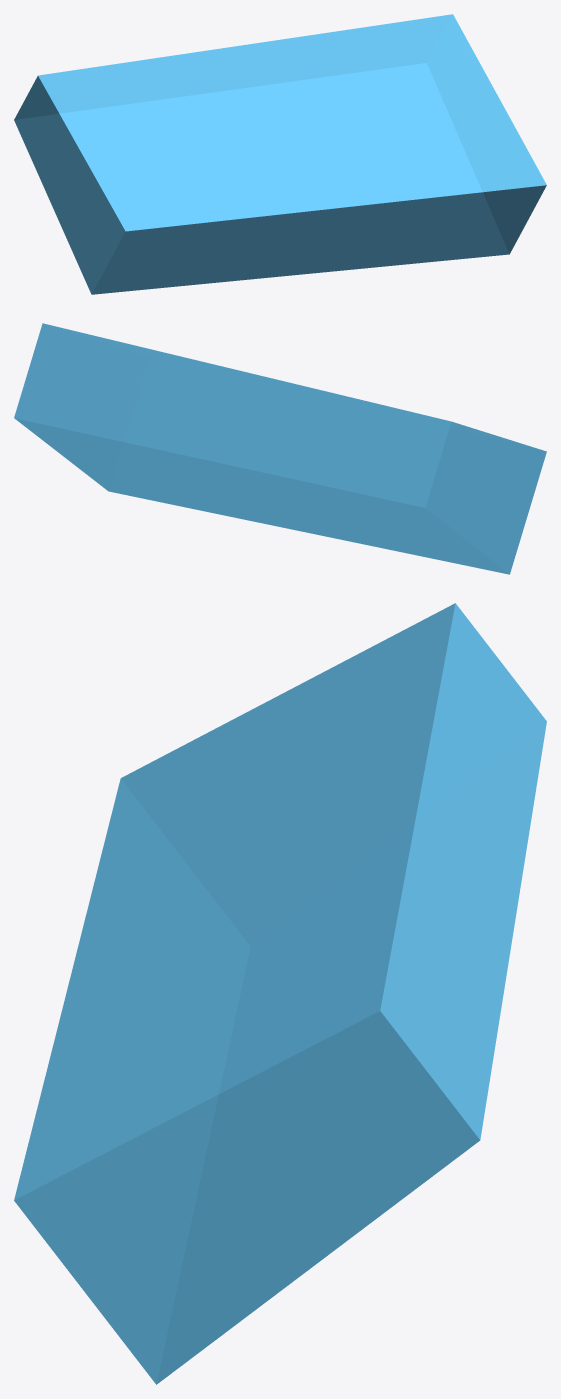
File: Event_420094457_HErechit_97.fbx
3 renders of one model, top to bottom at view 1: azimuth 30°, elevation 25°; view 2: azimuth 150°, elevation 25°; view 3: azimuth 270°, elevation 25°, orthographic. The views are drawn at different scales.
Visible parts, largest first — view 1: Model; view 2: Model; view 3: Model.
Part boxes in pixels (<box>): Model: <box>14,14,546,294</box>; Model: <box>14,323,546,574</box>; Model: <box>14,603,546,1384</box>.
Bounding box in the file's own units: 1.05 × 0.554 × 0.6443.
